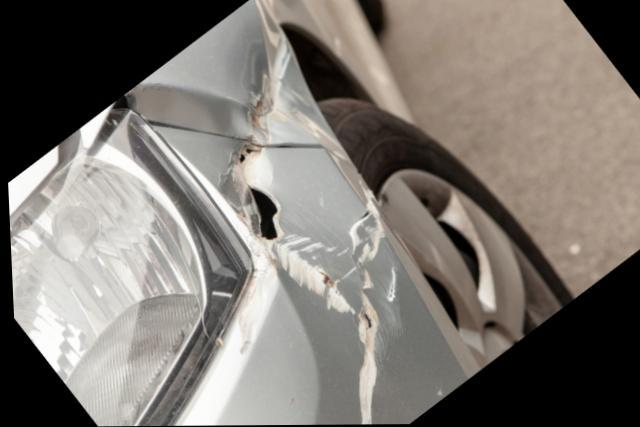crack: (246, 182, 276, 239), (236, 147, 257, 167)
dent: (227, 17, 323, 149)
scratch: (262, 187, 380, 425)
